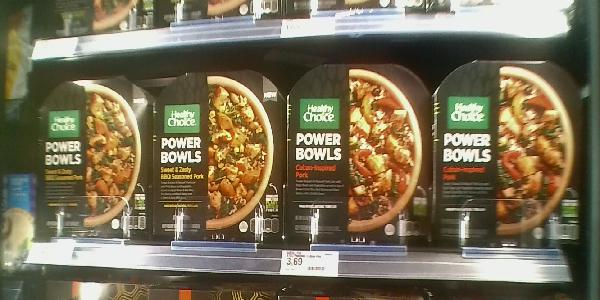pizza: (433, 63, 582, 247), (289, 66, 432, 243), (152, 73, 288, 244), (33, 82, 151, 237)
